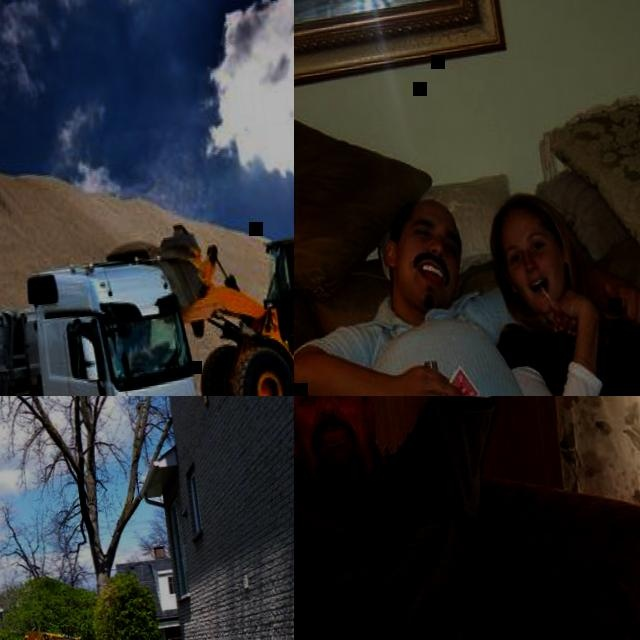NO-Hardhat: (484, 190, 555, 237), (391, 197, 458, 230)
NO-Mask: (294, 405, 382, 490), (383, 230, 460, 310), (508, 254, 572, 314)
NO-Safety Vest: (294, 441, 502, 640), (336, 281, 551, 396), (503, 293, 640, 396)
Person: (294, 173, 640, 396), (294, 396, 557, 640), (478, 156, 640, 396)
machinery: (103, 189, 294, 396), (0, 242, 210, 396)
